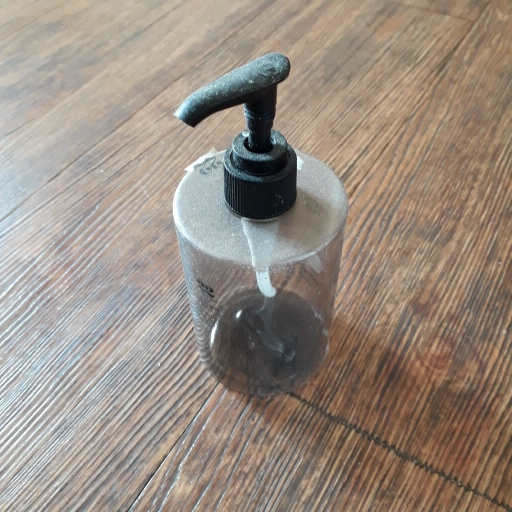Plastic_3: (167, 53, 348, 396)
